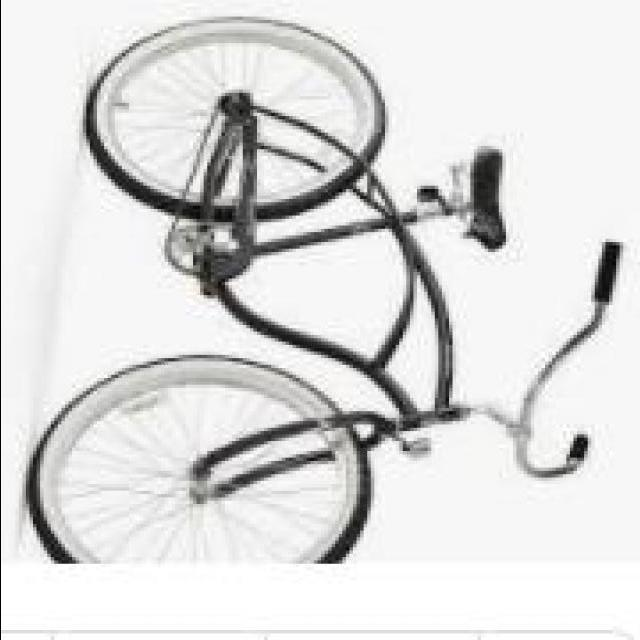bicycle: (36, 34, 602, 574)
